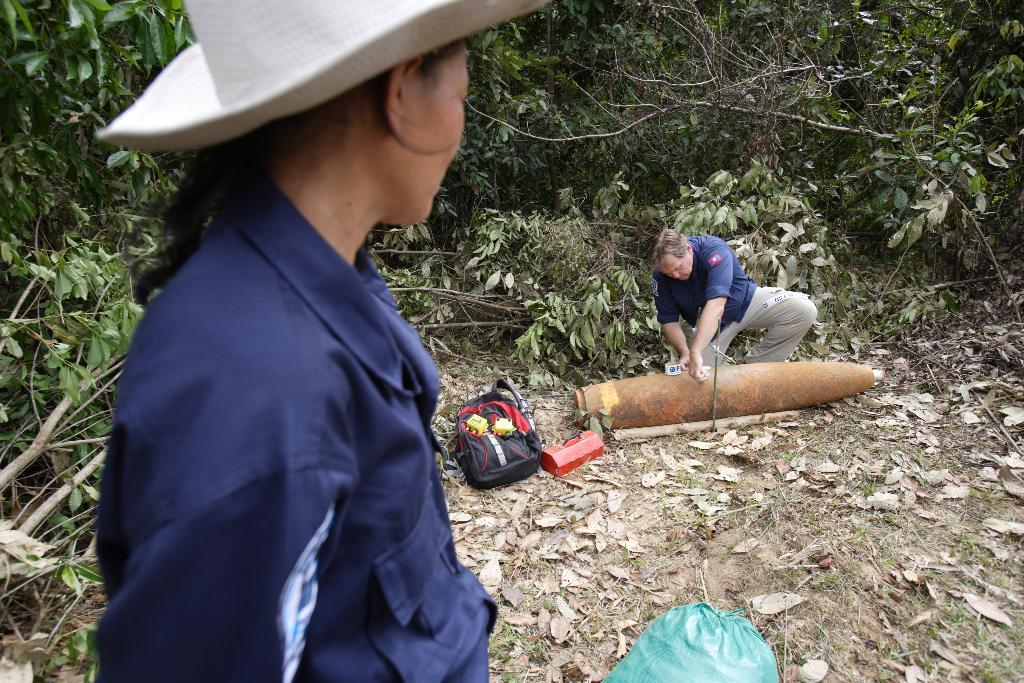Sem Máscara: (387, 41, 470, 228), (654, 250, 696, 283)
